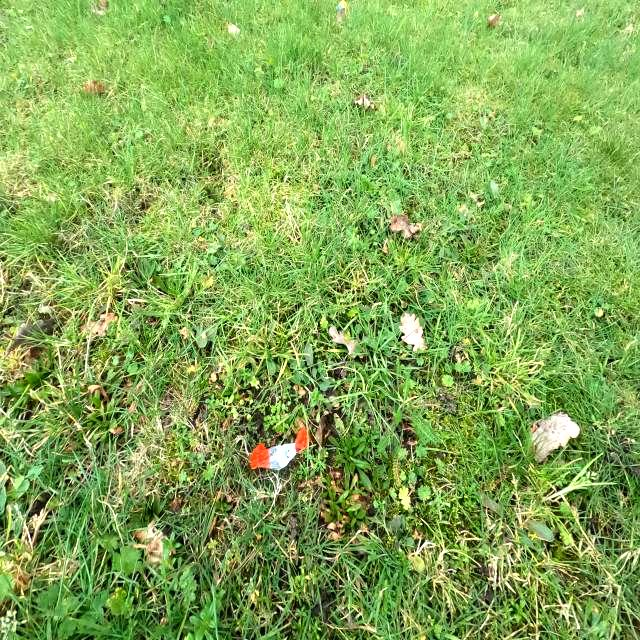Plastic: (248, 426, 312, 472)
